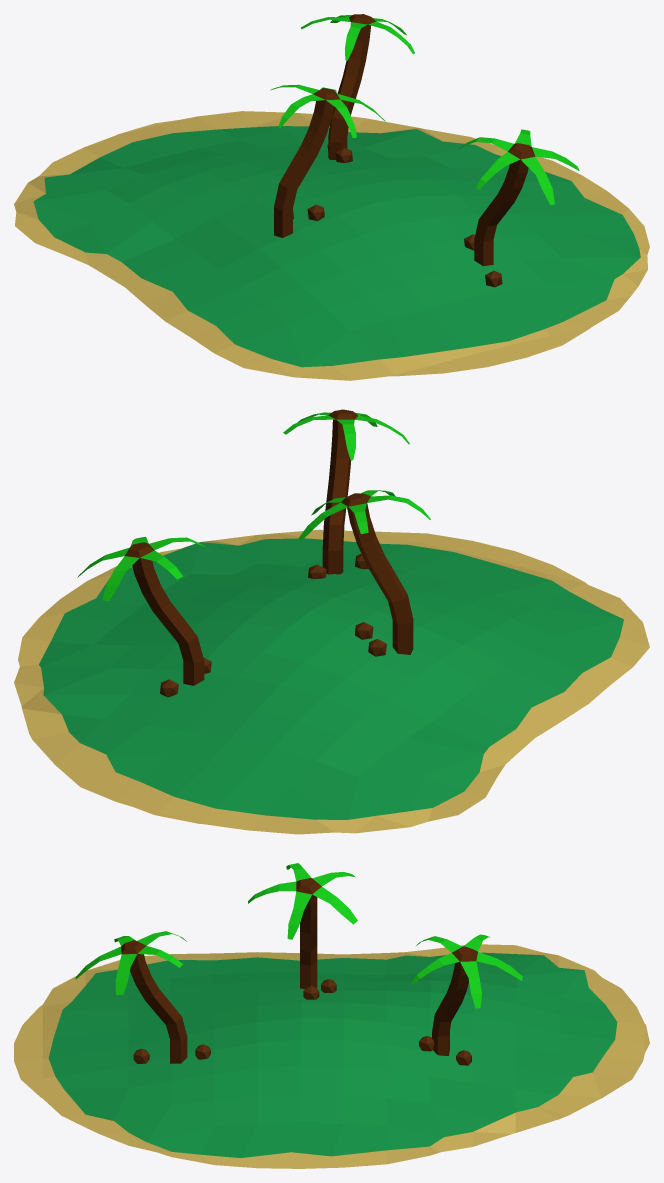
File: islandLegacy.obj
3 renders of one model, top to bottom at view 1: azimuth 30°, elevation 25°; view 2: azimuth 150°, elevation 25°; view 3: azimuth 270°, elevation 25°, orthographic. The views are drawn at different scales.
Visible parts, largest first — view 1: Plane, Cylinder.001, Cylinder, Cylinder.002; view 2: Plane, Cylinder.002, Cylinder, Cylinder.001; view 3: Plane, Cylinder.001, Cylinder.002, Cylinder.
Boxes of the visible parts, x1,y1,x2,y2 form: Plane: (14, 111, 649, 380); Cylinder.001: (458, 129, 579, 266); Cylinder: (270, 84, 385, 237); Cylinder.002: (301, 14, 414, 159); Plane: (14, 529, 649, 834); Cylinder.002: (77, 536, 211, 685); Cylinder: (298, 490, 430, 654); Cylinder.001: (283, 409, 409, 574); Plane: (14, 944, 649, 1168); Cylinder.001: (75, 931, 187, 1063); Cylinder.002: (411, 934, 522, 1055); Cylinder: (248, 863, 357, 988).
Size of what is drawn, in the model's own units: 2.79 by 0.9208 by 3.33.
